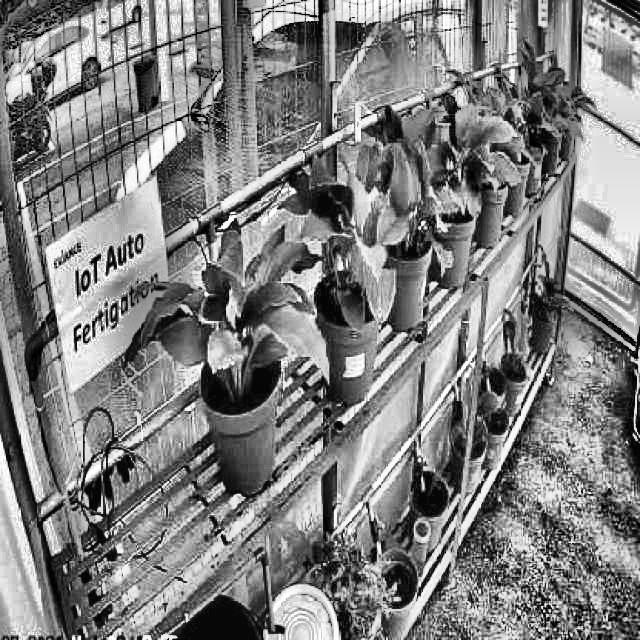plants: (122, 218, 328, 418), (280, 157, 397, 326), (360, 103, 454, 274), (422, 89, 520, 214)
